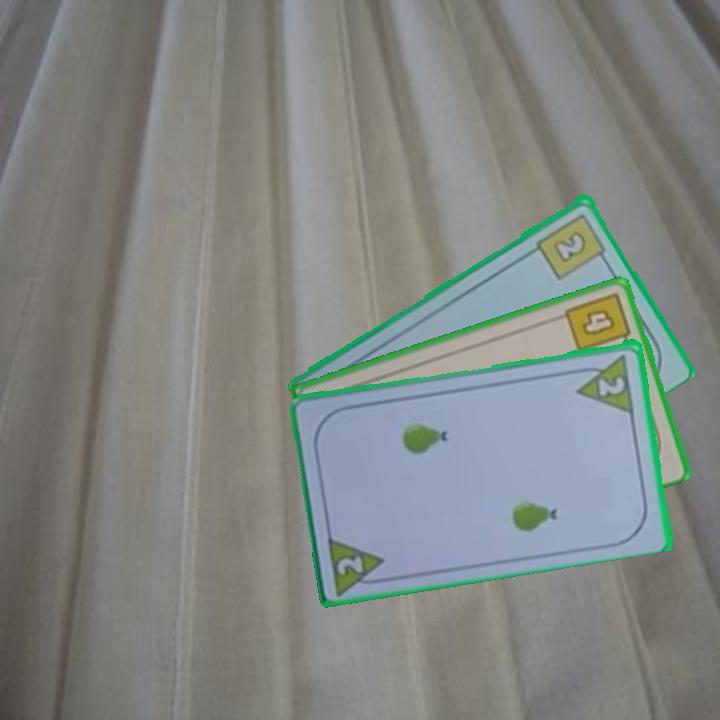2b: (533, 209, 611, 282)
2p: (324, 531, 392, 596), (571, 350, 638, 415)
4b: (561, 288, 634, 355)
